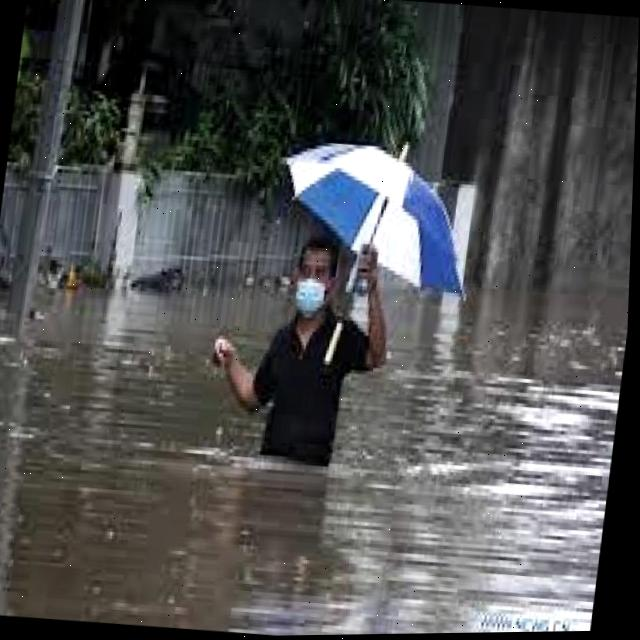civilian: (197, 213, 393, 484)
